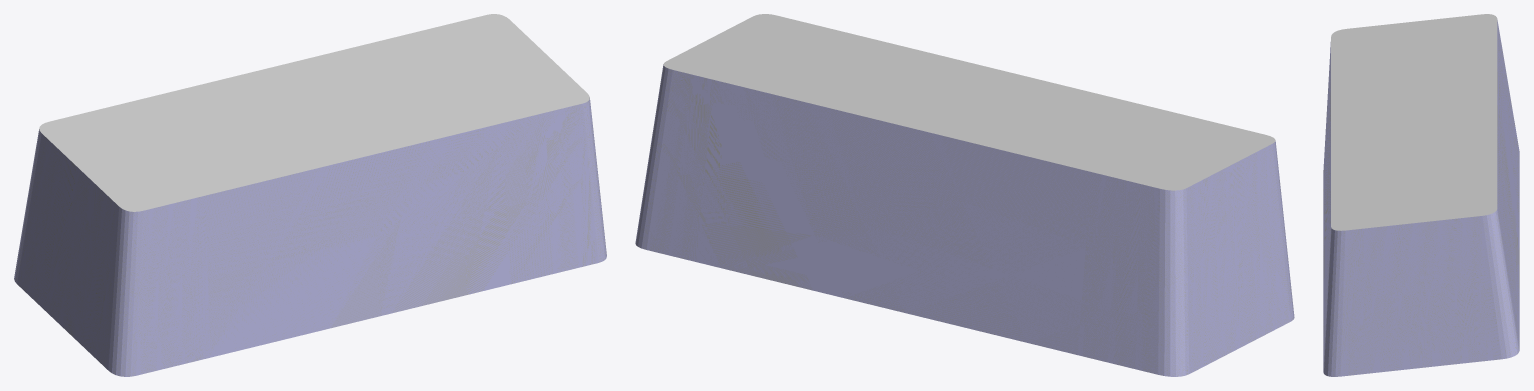
Rendered from original-68.obj.
3 renders of one model, left to right at view 1: azimuth 30°, elevation 25°; view 2: azimuth 150°, elevation 25°; view 3: azimuth 270°, elevation 25°, orthographic. The views are drawn at different scales.
Visible parts, largest first — view 1: mesh68/mesh68-geometry#mesh68-geometry; view 2: mesh68/mesh68-geometry#mesh68-geometry; view 3: mesh68/mesh68-geometry#mesh68-geometry.
Boxes of the visible parts, <box> form: mesh68/mesh68-geometry#mesh68-geometry: <box>14,14,606,376</box>; mesh68/mesh68-geometry#mesh68-geometry: <box>635,14,1294,376</box>; mesh68/mesh68-geometry#mesh68-geometry: <box>1323,14,1519,376</box>.
Bounding box in the file's own units: 0.1751 × 0.0606 × 0.0681.
